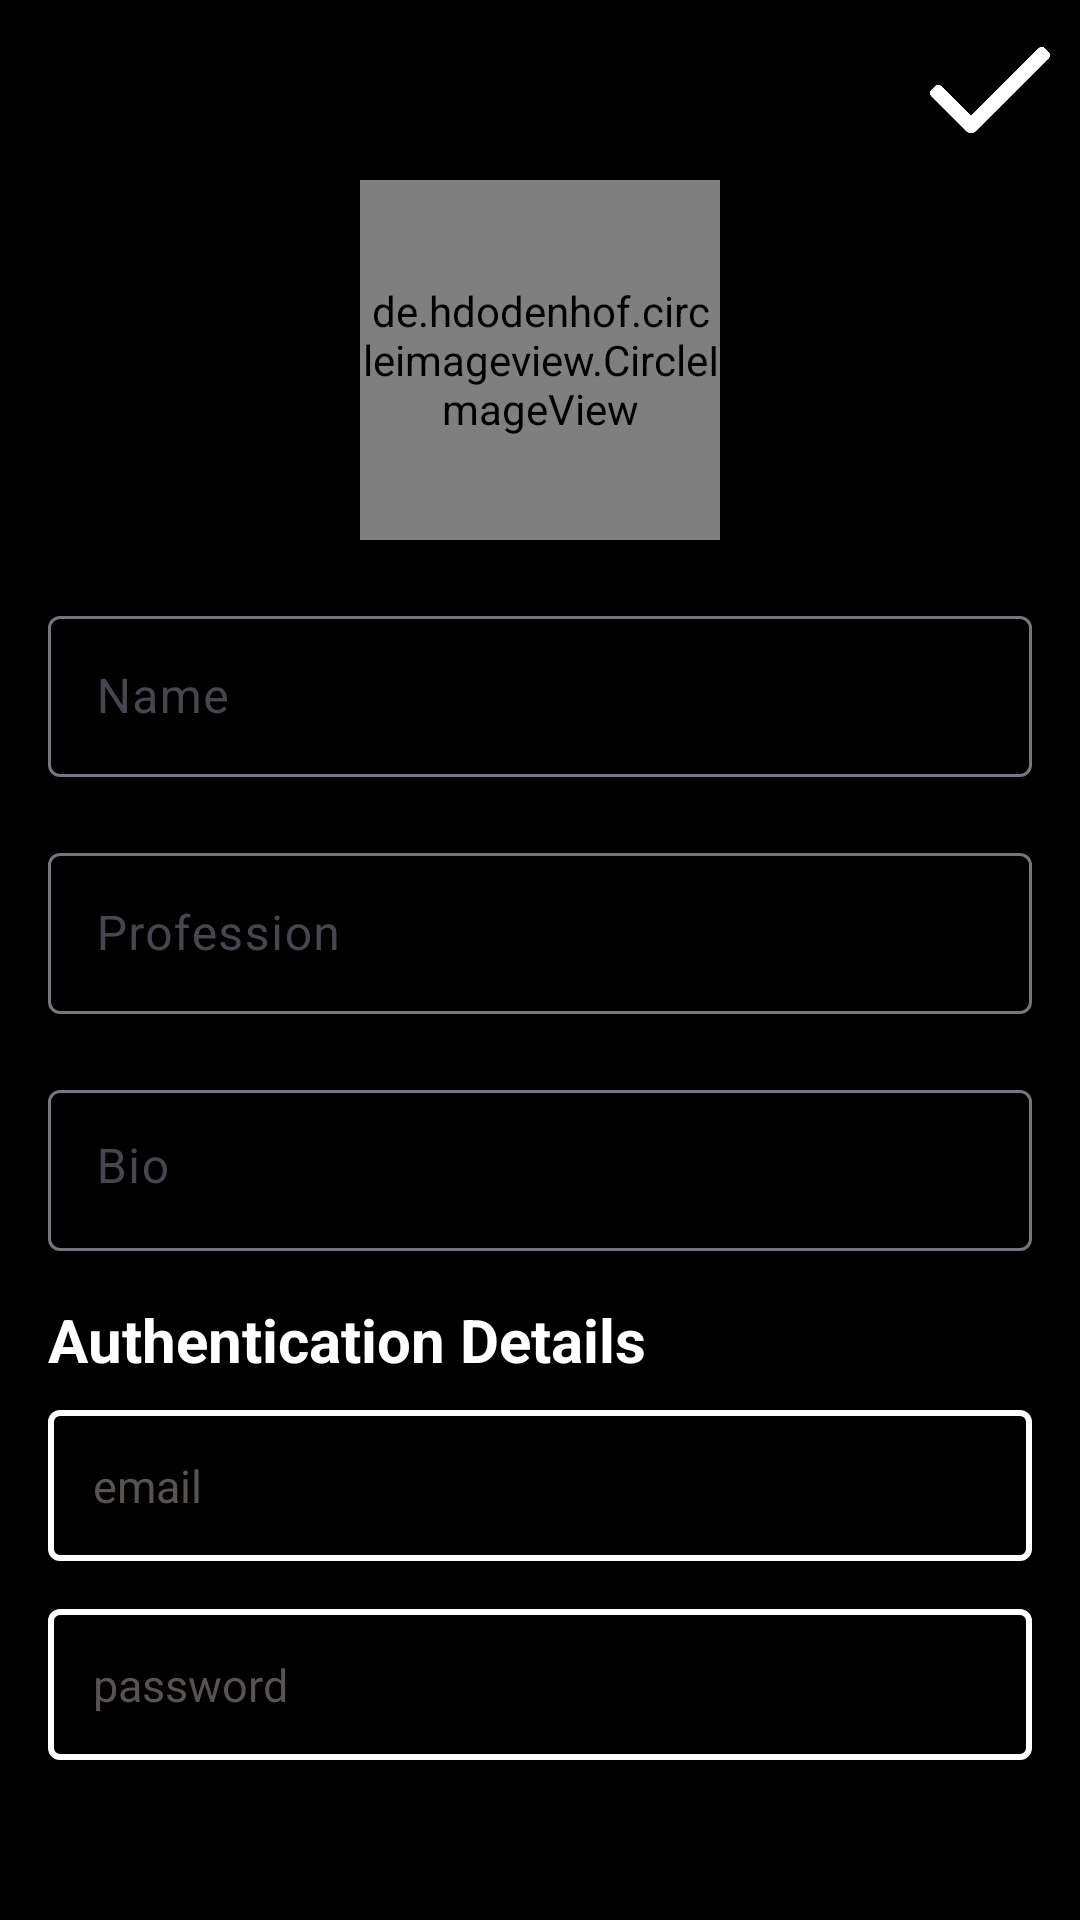

Where to tap for icons on this 1080px×1920px app screen, as (x=x, y=y):
check: (x=990, y=90)
